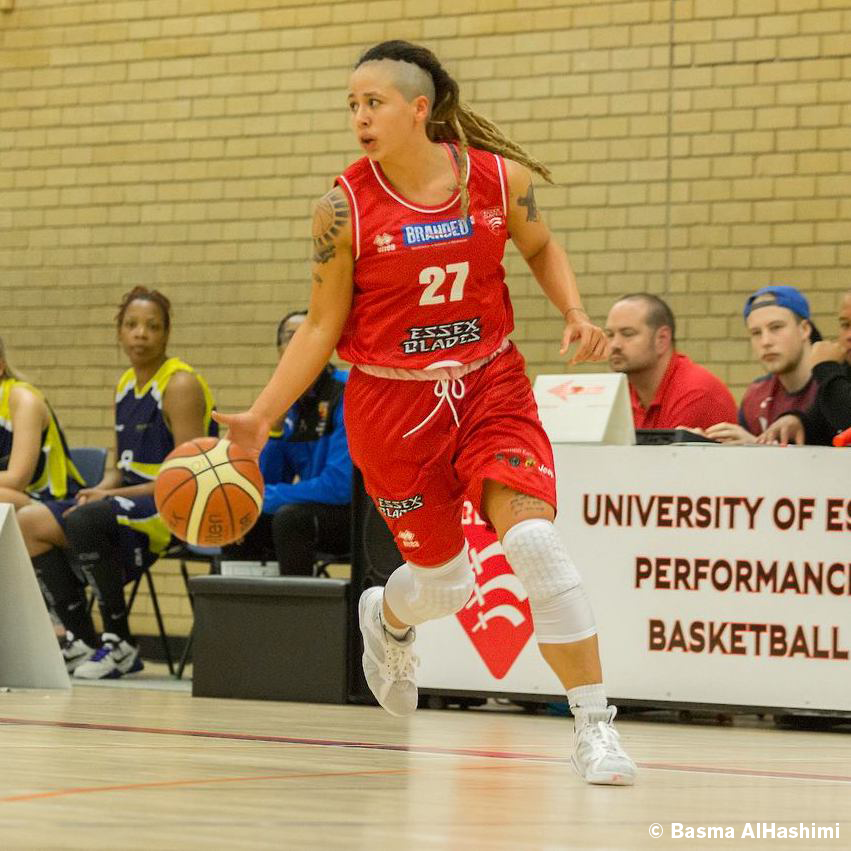ball: (156, 436, 263, 545)
player: (236, 44, 619, 777)
